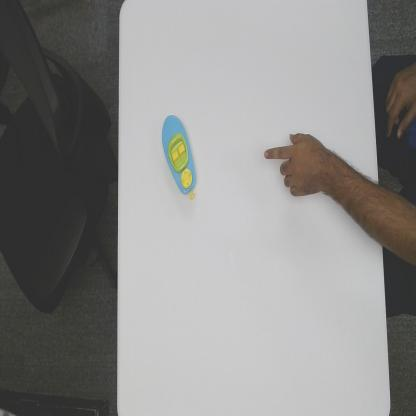Arm: (325, 150, 380, 244)
Boat: (161, 112, 198, 203)
Hand: (263, 130, 325, 199)
